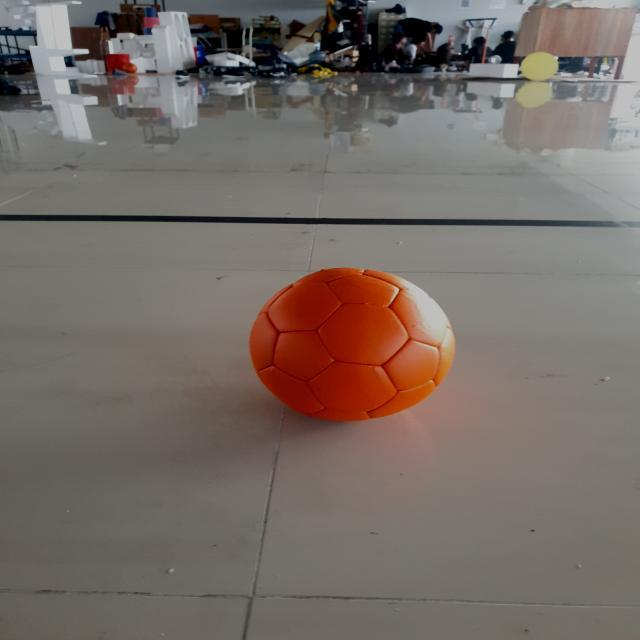bola: (247, 264, 463, 433)
